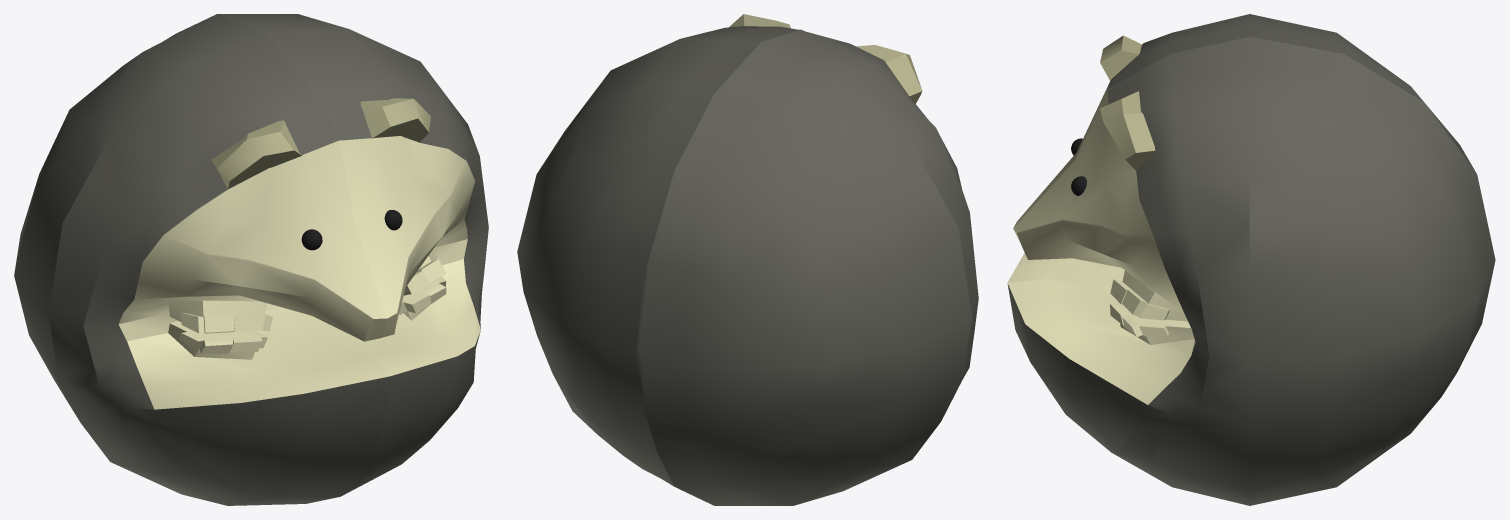
The model's file is HARImouse_2.fbx.
3 views of the same model, side by side, from view 1: azimuth 30°, elevation 25°; view 2: azimuth 150°, elevation 25°; view 3: azimuth 270°, elevation 25° (orthographic). The views are drawn at different scales.
Parts seen in each view (by area): view 1: polySurface2; view 2: polySurface2; view 3: polySurface2.
Part boxes in pixels (left/top/right/bottom): polySurface2: left=14, top=14, right=488, bottom=505; polySurface2: left=517, top=14, right=978, bottom=505; polySurface2: left=1007, top=14, right=1495, bottom=505.
Bounding box in the file's own units: 790 × 800 × 793.
